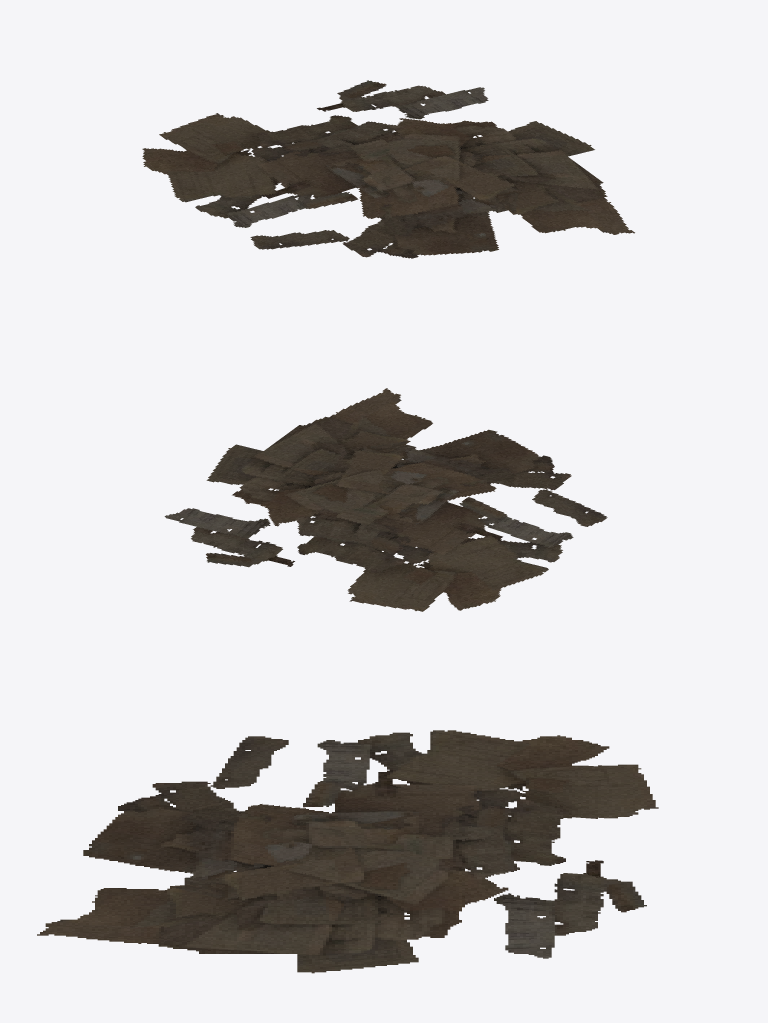
File: trash_2.glb
The picture shows the model from 3 angles, top to bottom: view 1: azimuth 30°, elevation 25°; view 2: azimuth 150°, elevation 25°; view 3: azimuth 270°, elevation 25°; orthographic projection. The views are drawn at different scales.
Parts seen in each view (by area): view 1: trash_2; view 2: trash_2; view 3: trash_2.
Boxes of the visible parts, bbox=[...] form: trash_2: bbox=[142, 80, 634, 258]; trash_2: bbox=[164, 388, 607, 611]; trash_2: bbox=[37, 730, 658, 973].
Bounding box in the file's own units: 1 × 0.0147 × 1.
Materials: 1 (1 with a texture image).
